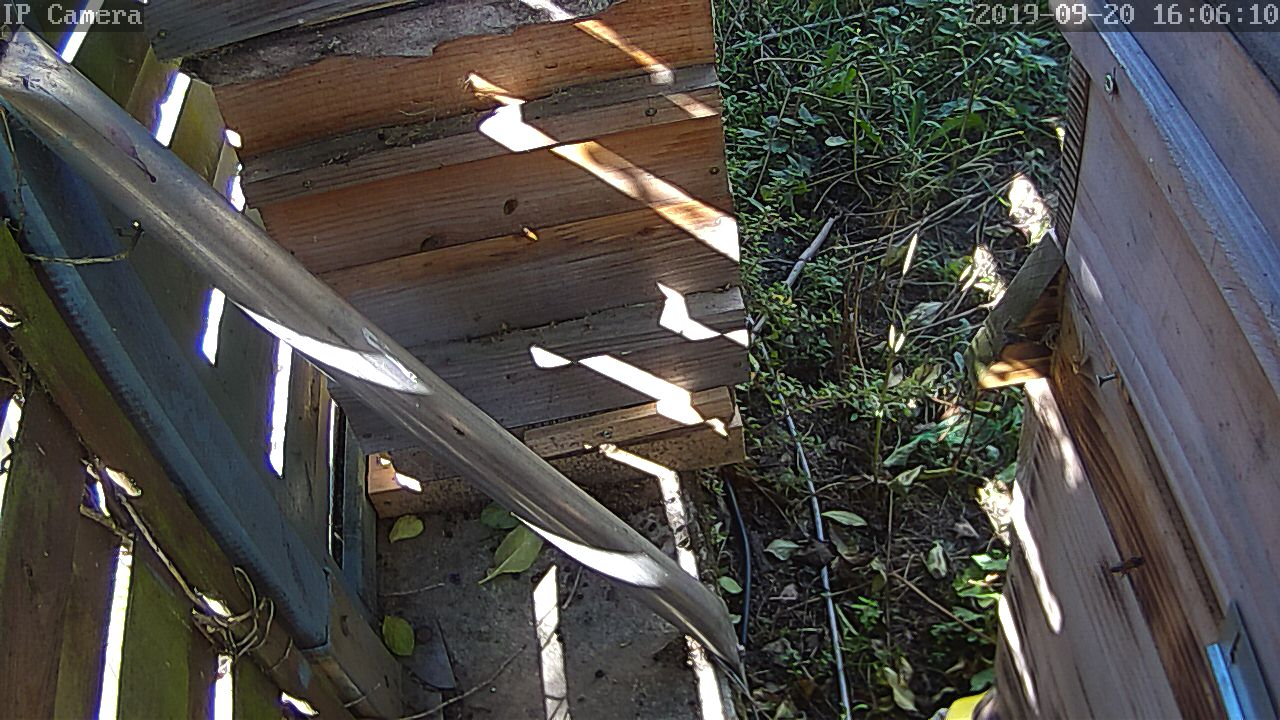bee: (1102, 546, 1149, 581)
